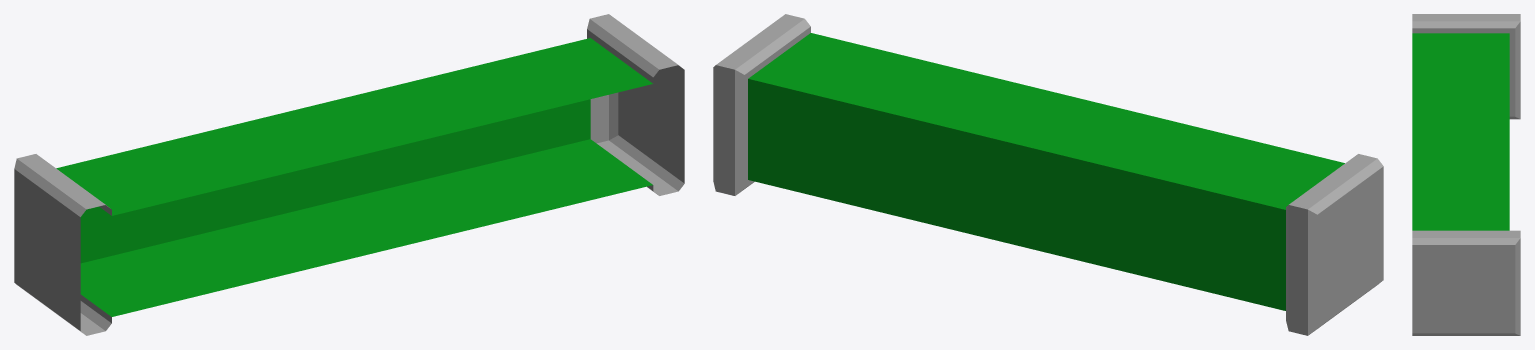
The model's file is Geo_Energy_Pipe.fbx.
The picture shows the model from 3 angles, left to right: view 1: azimuth 30°, elevation 25°; view 2: azimuth 150°, elevation 25°; view 3: azimuth 270°, elevation 25°; orthographic projection. The views are drawn at different scales.
Parts seen in each view (by area): view 1: Geo_Energypipe_1; view 2: Geo_Energypipe_1; view 3: Geo_Energypipe_1.
Boxes of the visible parts, x1,y1,x2,y2 form: Geo_Energypipe_1: (14,14,684,335); Geo_Energypipe_1: (713,14,1383,335); Geo_Energypipe_1: (1412,14,1520,335).
Size of the model in its own units: 50 by 10 by 10.
